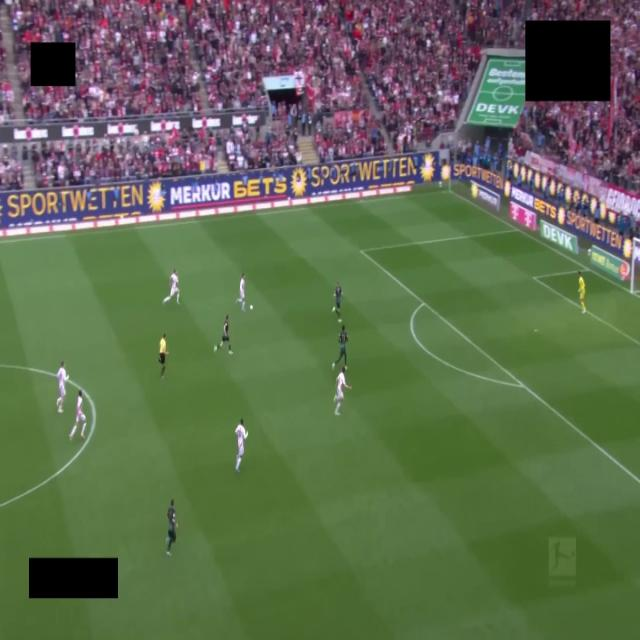ball: (250, 305, 253, 310)
player: (334, 367, 351, 415), (70, 391, 86, 439), (332, 325, 348, 369), (235, 419, 248, 473), (214, 315, 232, 354), (57, 361, 69, 413), (167, 500, 177, 556), (163, 270, 179, 304), (332, 281, 342, 321), (236, 273, 245, 311), (578, 272, 586, 313)
referee: (158, 334, 167, 378)
